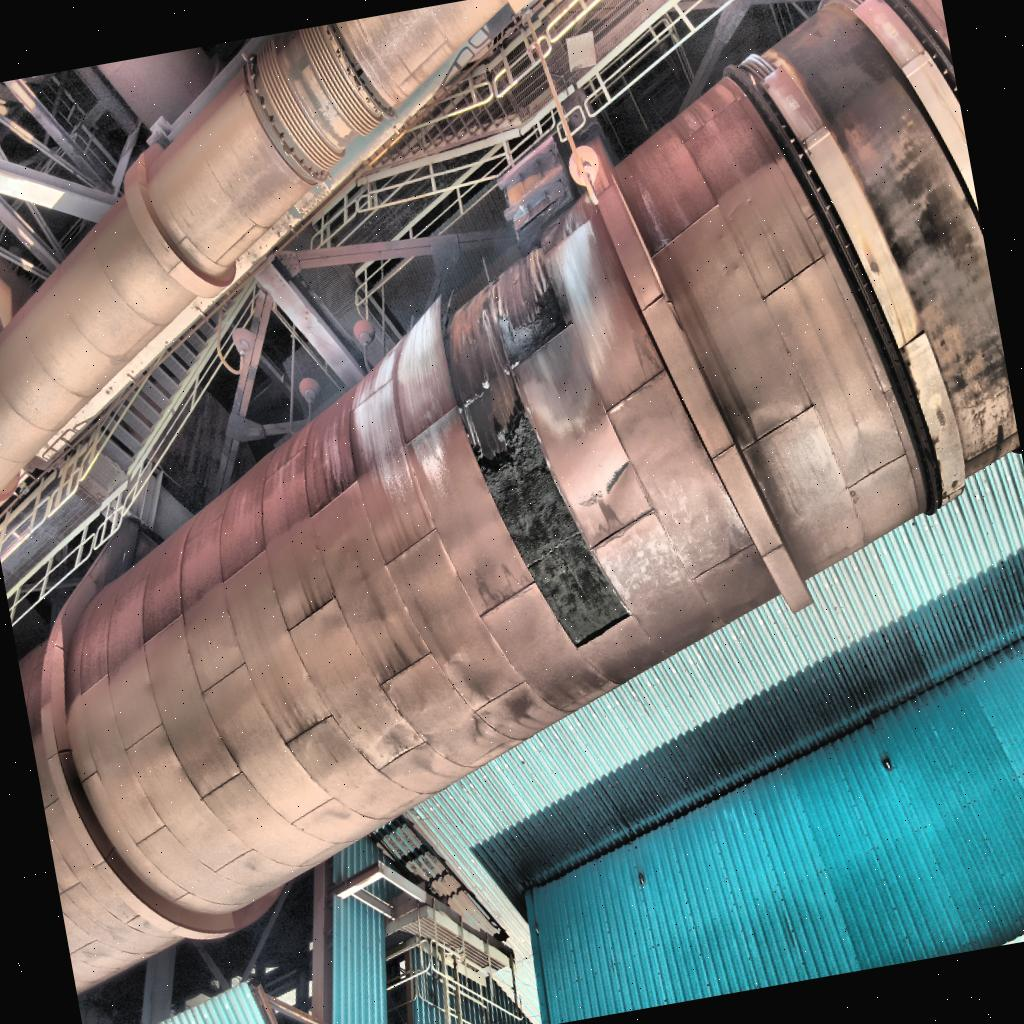Failures: (428, 256, 638, 662)
